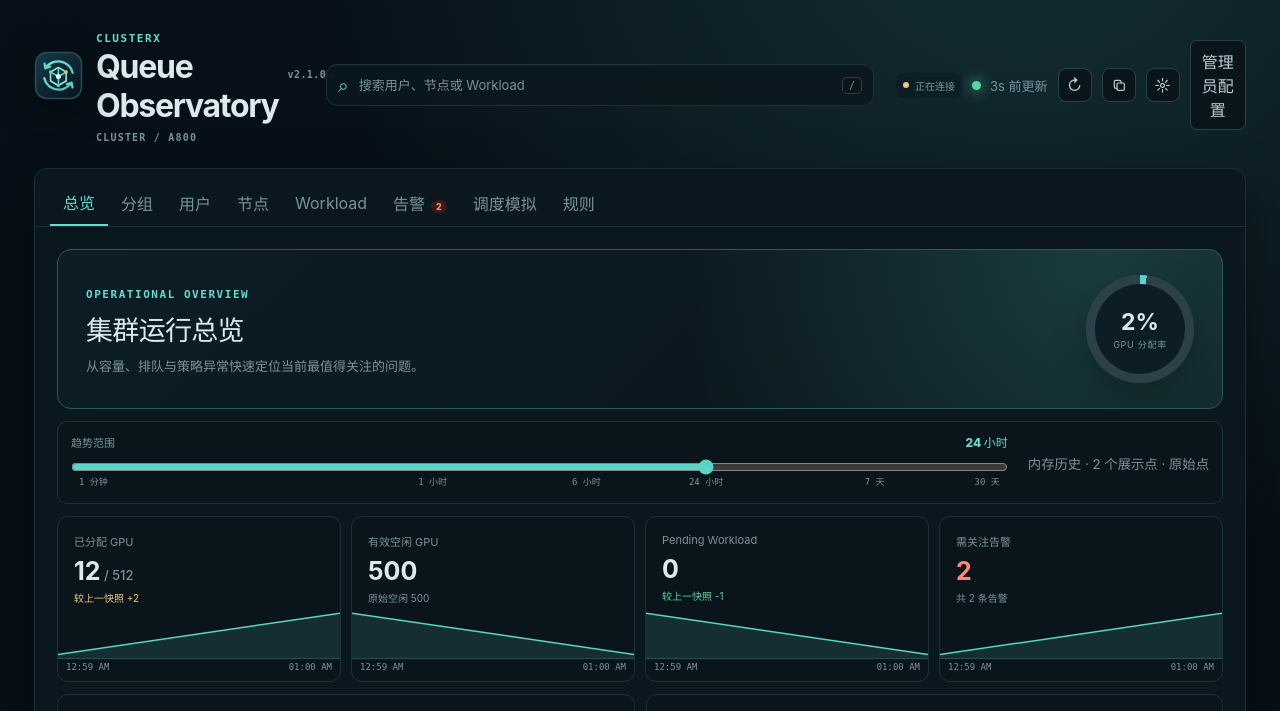
it: Clusterx monitor dashboard › filters enum columns, sorts numeric columns and resets missing filter values
Expected: the heading "Queue Observatory" is shown, x1=96 y1=47 x2=278 y2=125
Step 1. Click the button with aria-label "groups" → [137, 203], box x1=108 y1=180 x2=166 y2=226
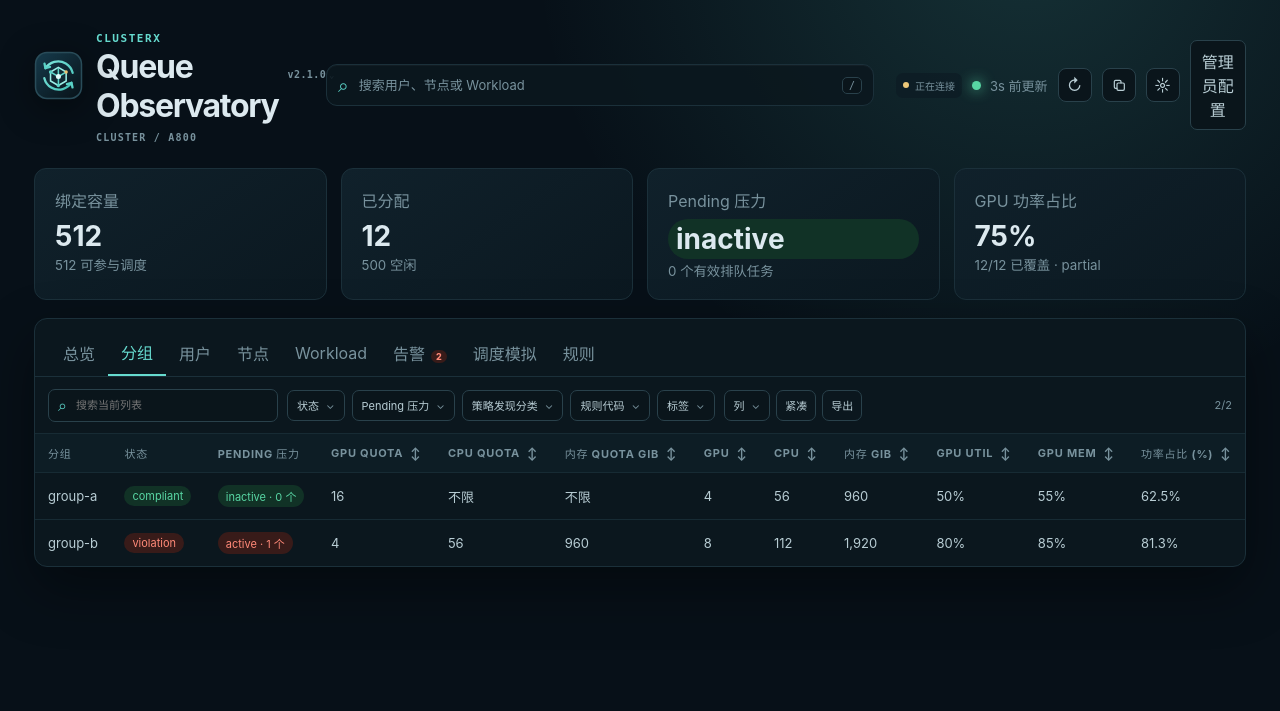
Expected: the heading "v2.1.0" is shown, x1=288 y1=67 x2=335 y2=83
Step 2. Click the button with aria-label "排序 GPU" → [726, 453], box x1=704 y1=446 x2=748 y2=460
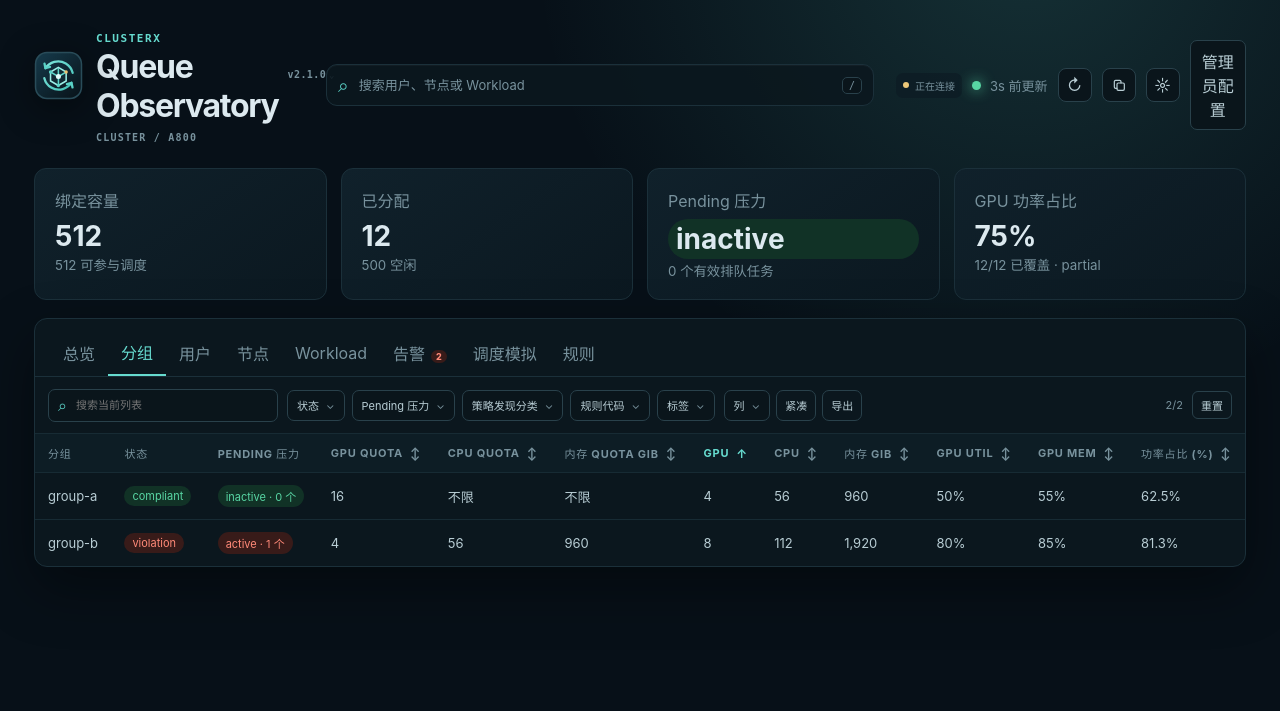
Expected: the row named "查看 group-a 详情" shows "group-a", x1=48 y1=488 x2=97 y2=504
Step 3. Click the button with aria-label "排序 GPU" → [726, 453], box x1=704 y1=446 x2=748 y2=460
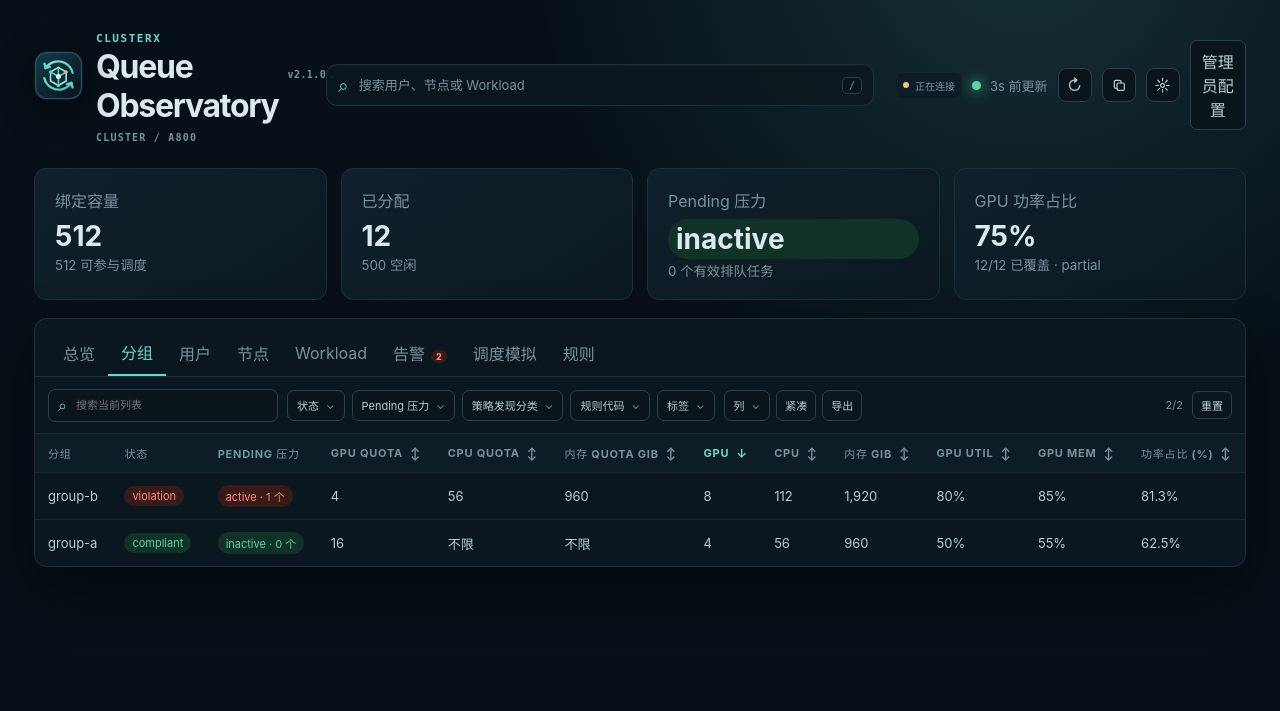
Expected: the row named "查看 group-b 详情" shows "group-b", x1=48 y1=488 x2=98 y2=504
Step 4. Click the heading "状态" → [316, 405], box x1=287 y1=390 x2=345 y2=420
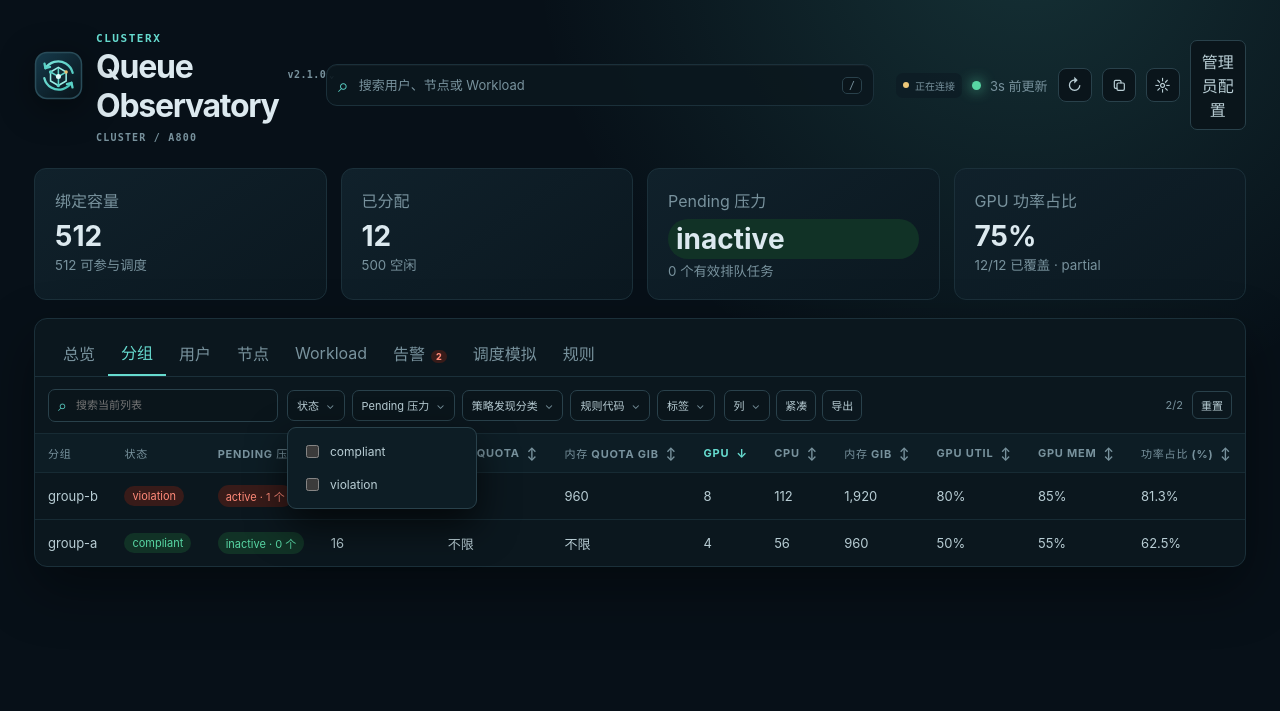
Step 5. Click the checkbox labelled "violation" → [312, 484], box x1=306 y1=478 x2=319 y2=490
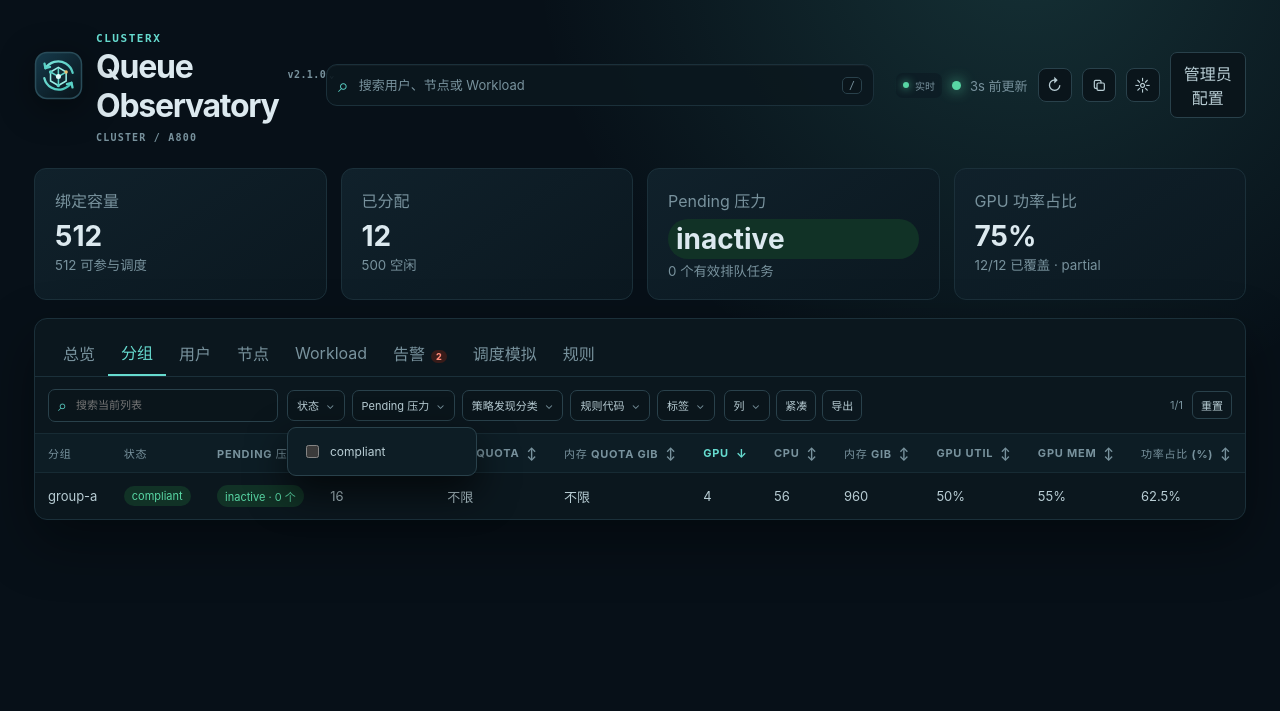
Expected: the text "group-a" is shown, x1=35 y1=472 x2=111 y2=519
Expected: the text "1/1" is shown, x1=1170 y1=398 x2=1183 y2=412
